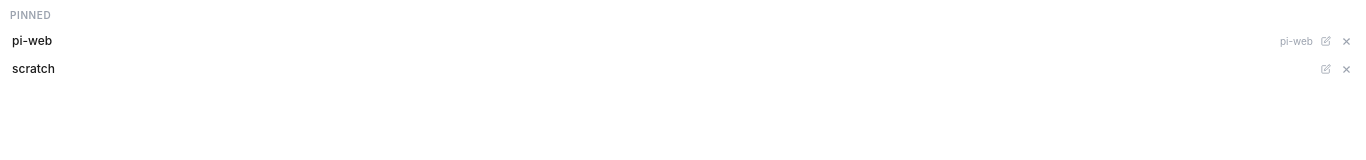
Test: PinnedDirsList › clicking the pencil reveals an inline input pre-filled with the alias
The image size is (1366, 160).
Expected: the number of list items is 2, [12,33,1354,48]; [12,61,1354,76]
Click the 1st button named "Set alias…": (1326, 41) [1319,34,1333,48]
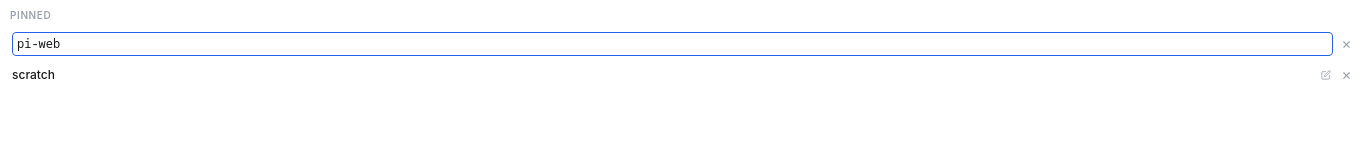
Expected: the field holds "pi-web", [12,32,1333,56]
